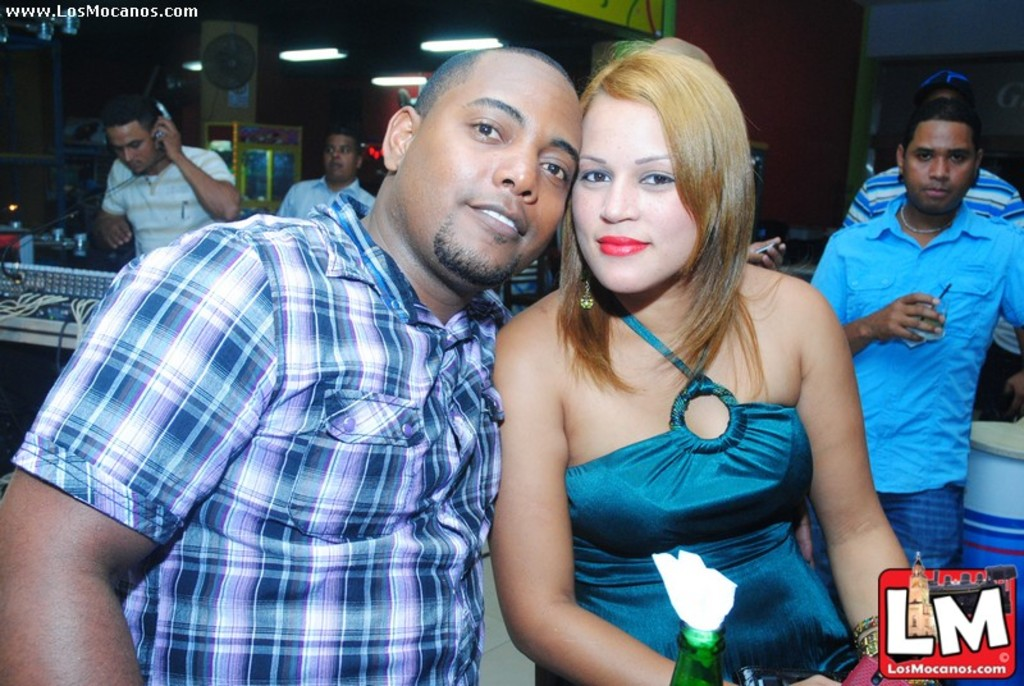Human_hand: (865, 284, 974, 346), (746, 233, 792, 273), (148, 113, 182, 160), (95, 211, 132, 253), (776, 672, 842, 685)
